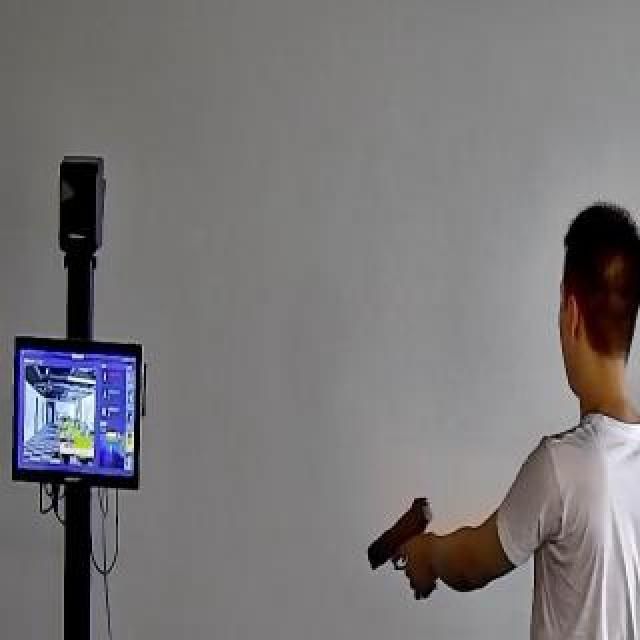Guns: (345, 481, 462, 610)
